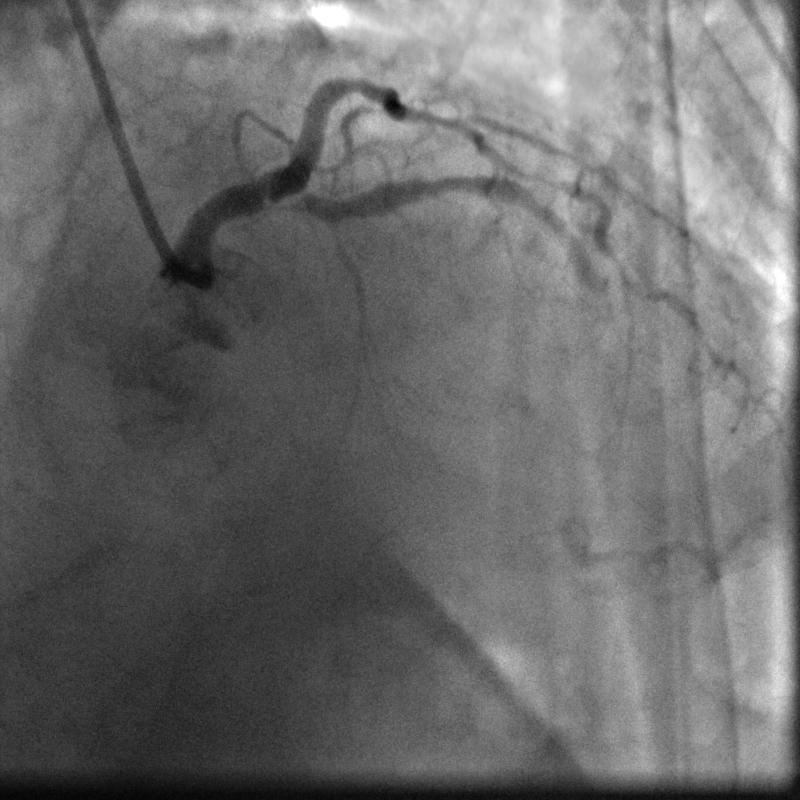Stenosis: (277, 179, 321, 219)
